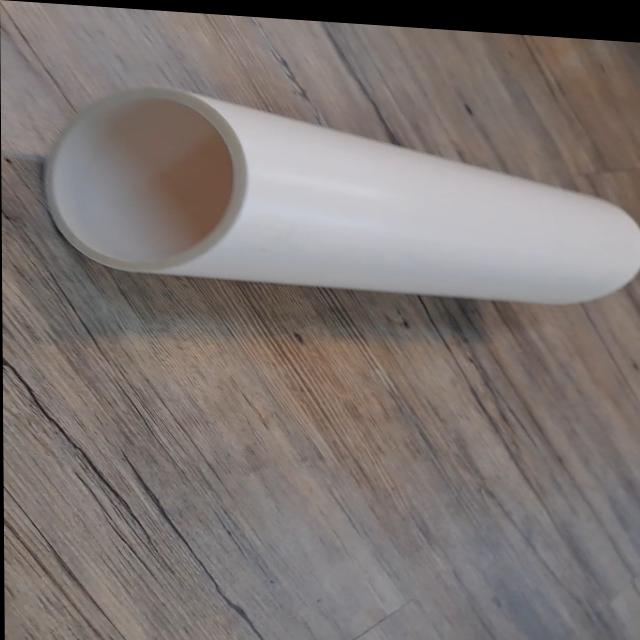CORAL: (57, 67, 640, 316)
